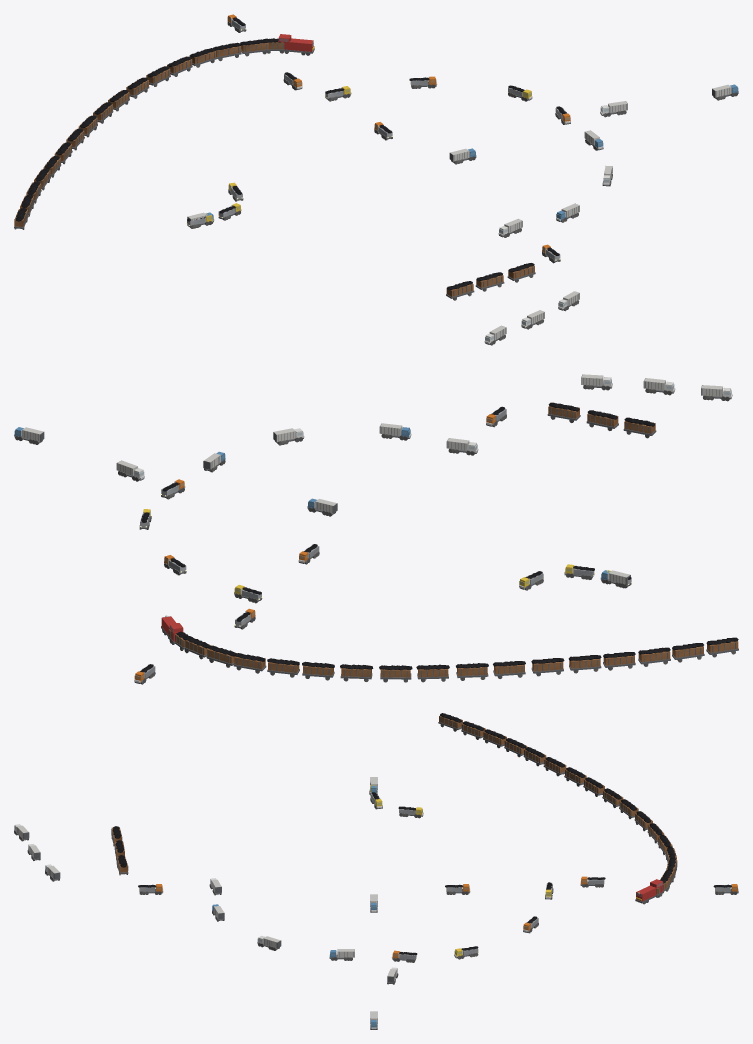
The model's file is Vehicles_P3.fbx.
The picture shows the model from 3 angles, top to bottom: view 1: azimuth 30°, elevation 25°; view 2: azimuth 150°, elevation 25°; view 3: azimuth 270°, elevation 25°; orthographic projection. The views are drawn at different scales.
Parts seen in each view (by area): view 1: train; view 2: no part large enough to name; view 3: no part large enough to name.
Part boxes in pixels (box(x1,y1,x2,y2)): train: box(278, 34, 314, 55).
Size of the model in its own units: 29674 by 725 by 29700.
